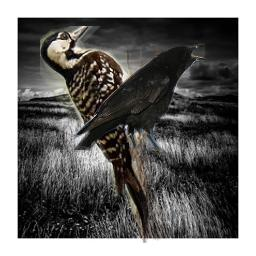Crow: (71, 42, 208, 159)
Woodpecker: (40, 26, 169, 243)
